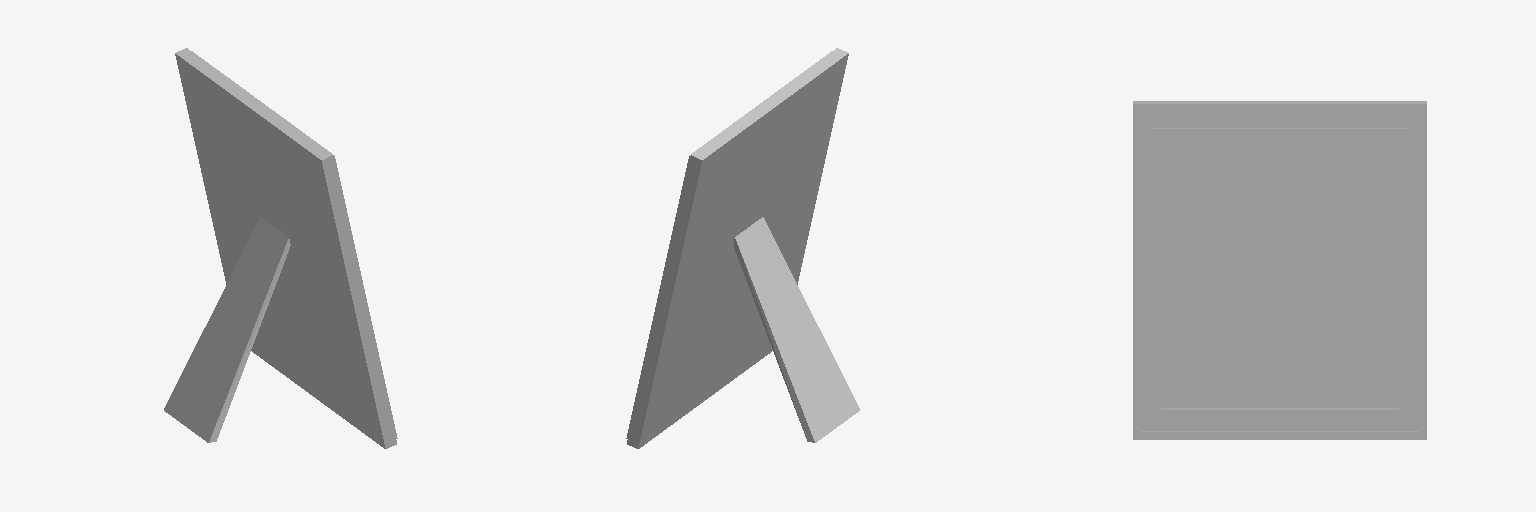
File: frame3.obj
3 renders of one model, left to right at view 1: azimuth 30°, elevation 25°; view 2: azimuth 150°, elevation 25°; view 3: azimuth 270°, elevation 25°, orthographic.
Visible parts, largest first — view 1: Object_6, Object_8, Object_4; view 2: Object_6, Object_8, Object_4; view 3: Object_10, Object_4.
Boxes of the visible parts, x1,y1,x2,y2 form: Object_6: [175, 54, 385, 448]; Object_8: [164, 217, 290, 442]; Object_4: [175, 48, 397, 448]; Object_6: [638, 54, 848, 448]; Object_8: [733, 217, 859, 442]; Object_4: [626, 48, 848, 448]; Object_10: [1161, 137, 1398, 407]; Object_4: [1133, 101, 1426, 439].
Bounding box in the file's own units: 0.3895 × 0.8179 × 0.7066.